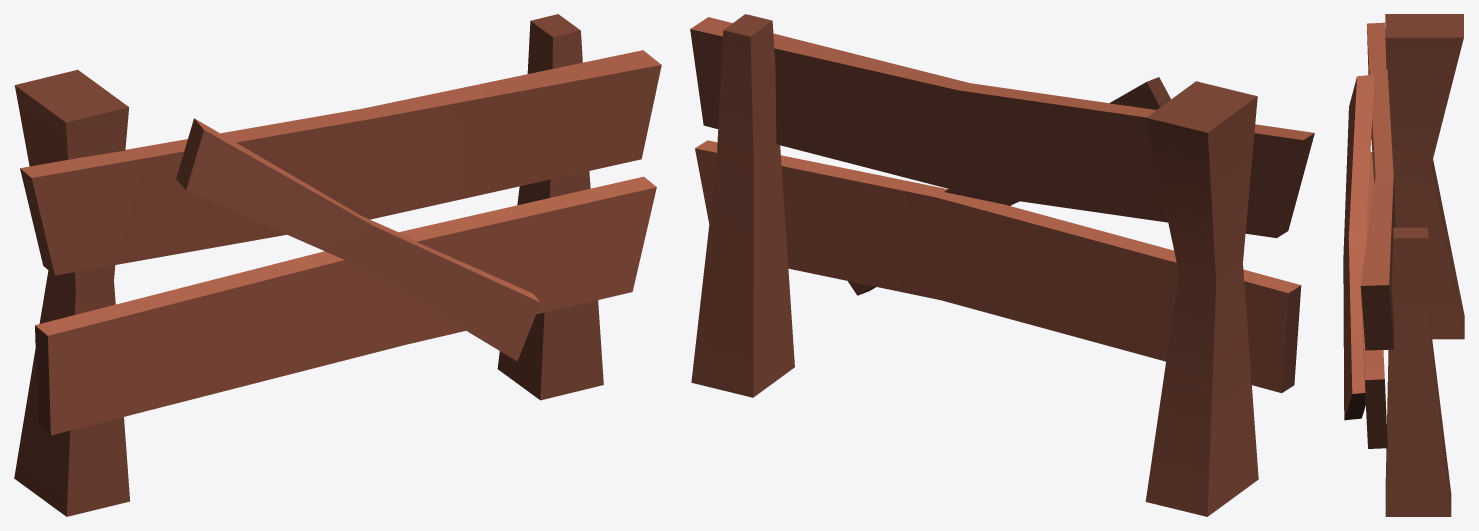
The model's file is Fence_1.fbx.
The picture shows the model from 3 angles, left to right: view 1: azimuth 30°, elevation 25°; view 2: azimuth 150°, elevation 25°; view 3: azimuth 270°, elevation 25°; orthographic projection. The views are drawn at different scales.
Visible parts, largest first — view 1: Fence_1; view 2: Fence_1; view 3: Fence_1.
Part boxes in pixels (bbox=[...]): Fence_1: bbox=[14, 14, 661, 516]; Fence_1: bbox=[690, 14, 1314, 516]; Fence_1: bbox=[1343, 14, 1464, 516].
Bounding box in the file's own units: 0.0243 × 0.0146 × 0.00532.
